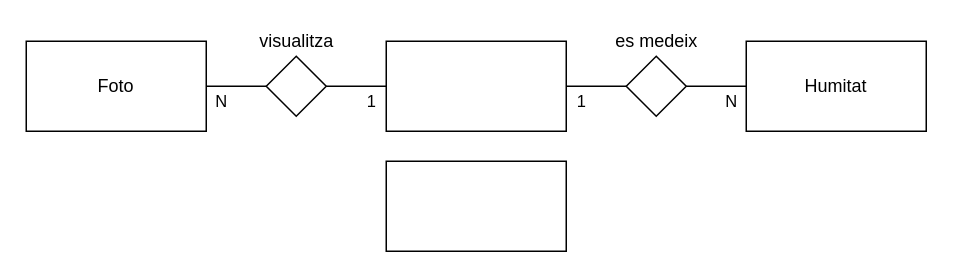
Some shapes in this 953 by 278 pixel diagram are drawn without their labels. The centre of each missing label's shape, as x and y in pixels:
Config: the point at 475,205
Planta: the point at 475,85
